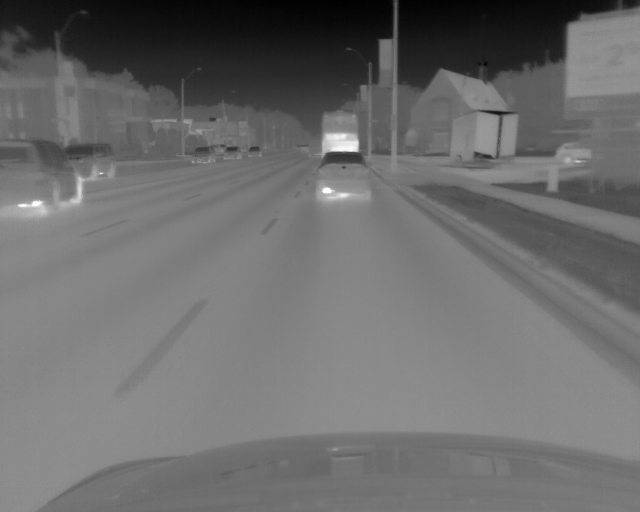car: (1, 138, 85, 210), (316, 151, 370, 200), (62, 142, 115, 181), (321, 111, 358, 154), (555, 142, 591, 166), (190, 146, 216, 165), (223, 146, 240, 160), (246, 146, 260, 157)
